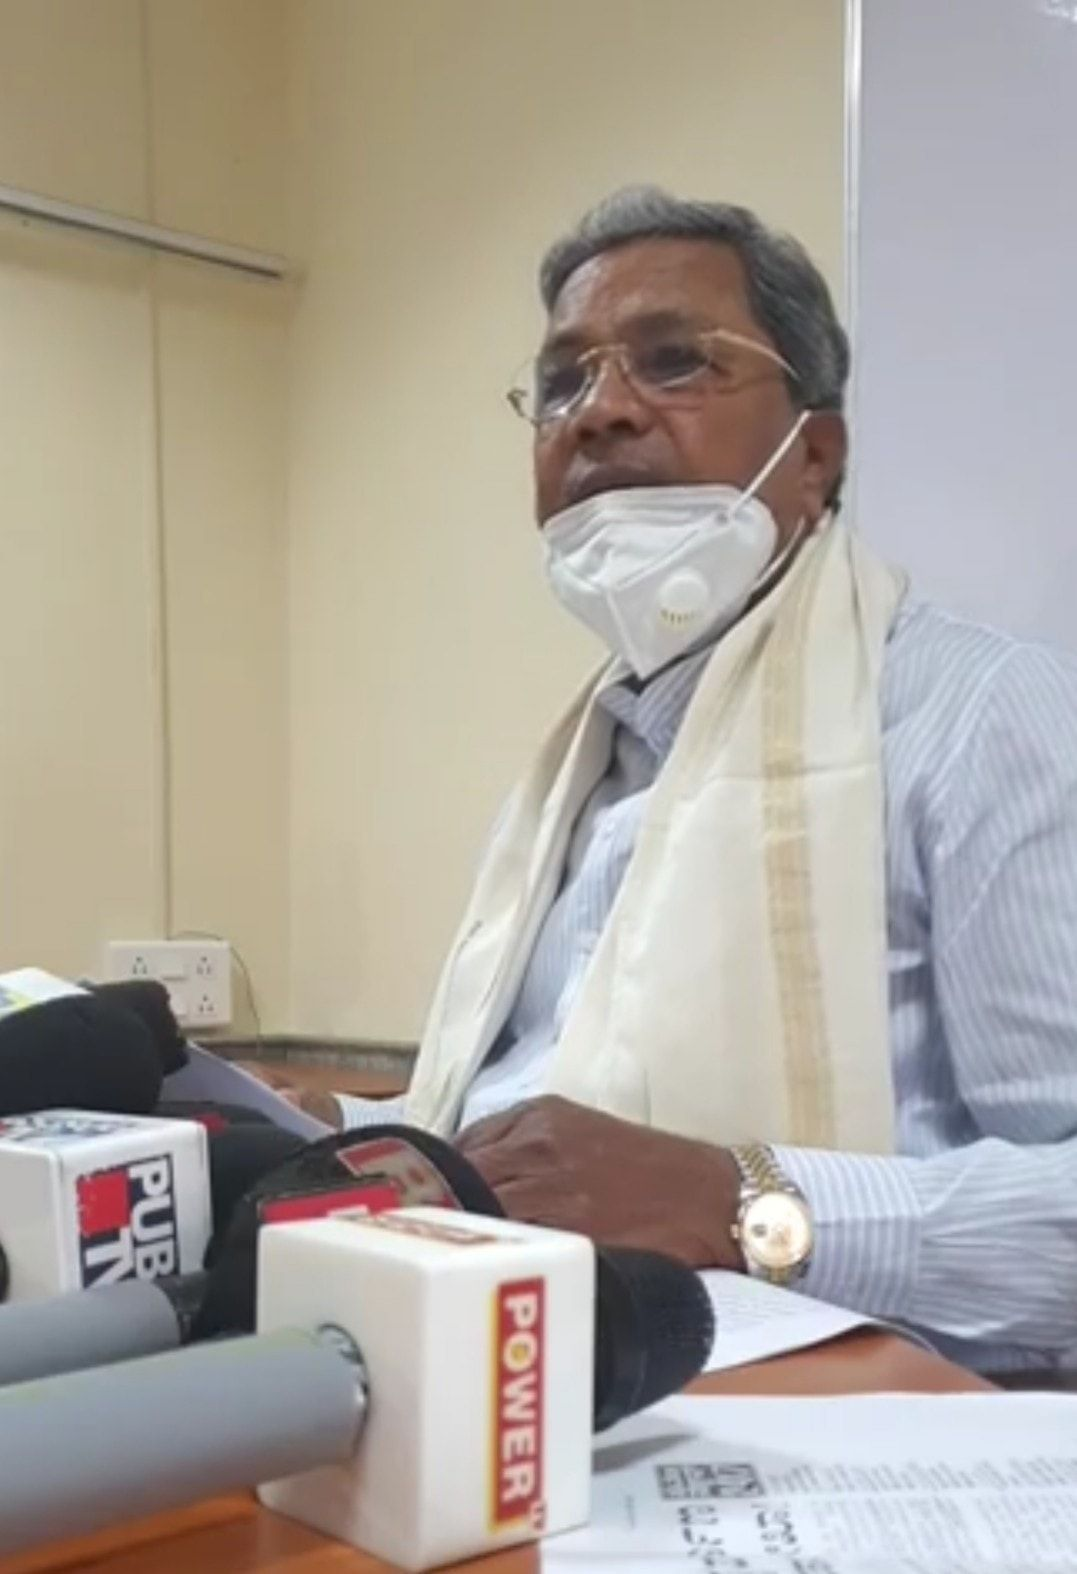mouth: (562, 462, 659, 495)
nose: (564, 403, 649, 439)
